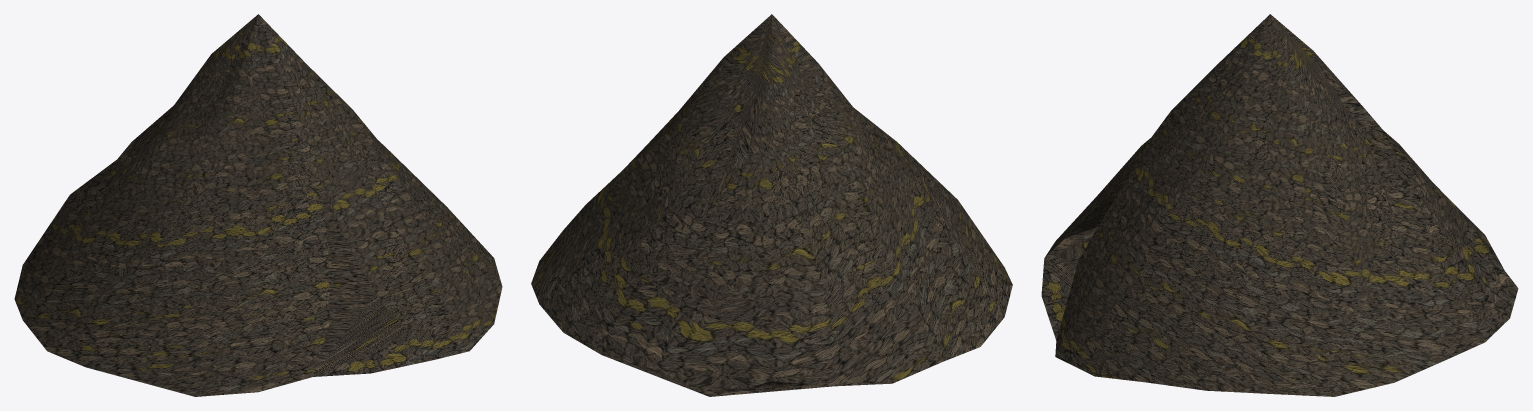
The picture shows the model from 3 angles, left to right: view 1: azimuth 30°, elevation 25°; view 2: azimuth 150°, elevation 25°; view 3: azimuth 270°, elevation 25°; orthographic projection. The views are drawn at different scales.
Parts seen in each view (by area): view 1: Cone001; view 2: Cone001; view 3: Cone001.
Boxes of the visible parts, x1,y1,x2,y2 form: Cone001: (14,14,502,396); Cone001: (531,14,1012,396); Cone001: (1041,14,1518,396).
Size of the model in its own units: 40 by 26.08 by 38.44.
1 material, 1 textured.
